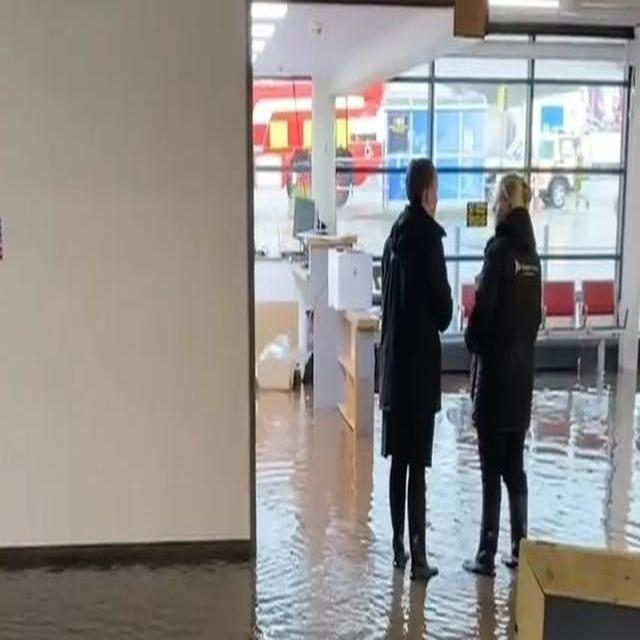Person-RiskLevel2: (464, 172, 562, 577), (373, 148, 458, 587)
